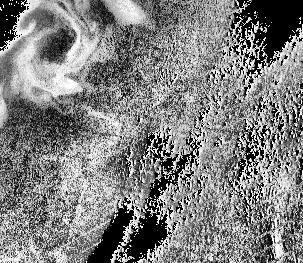AE: (16, 14, 101, 91)
